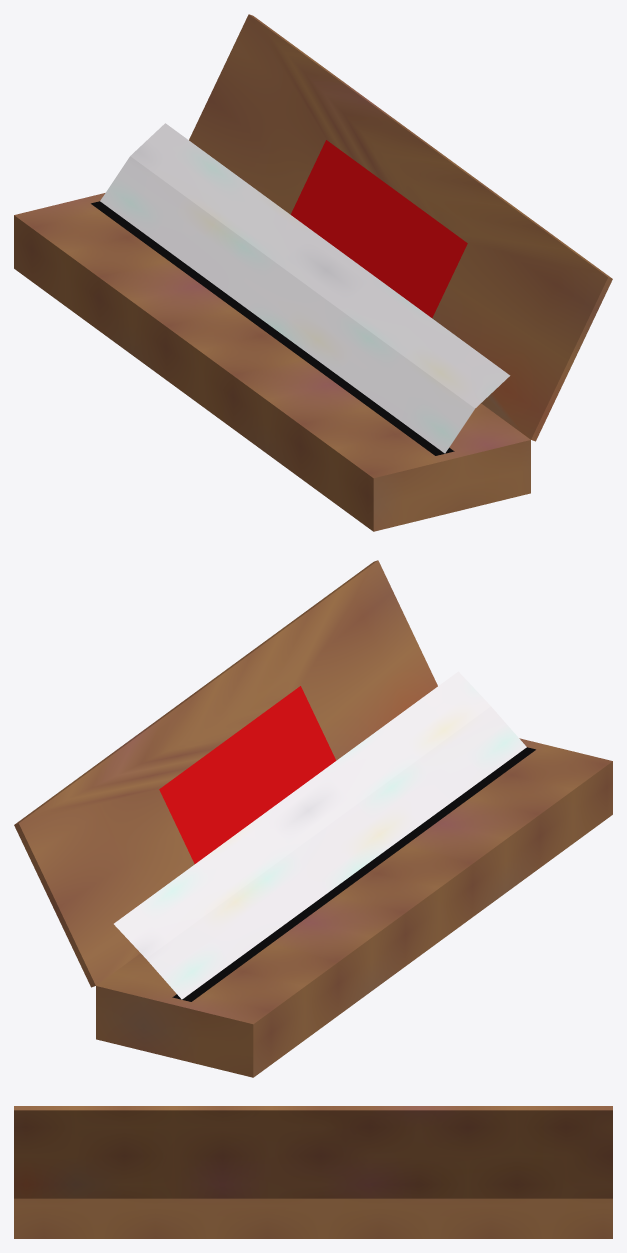
The picture shows the model from 3 angles, top to bottom: view 1: azimuth 30°, elevation 25°; view 2: azimuth 150°, elevation 25°; view 3: azimuth 270°, elevation 25°; orthographic projection. The views are drawn at different scales.
Parts seen in each view (by area): view 1: SmokingAccesories00; view 2: SmokingAccesories00; view 3: SmokingAccesories00.
Part boxes in pixels (left/top/right/bottom): SmokingAccesories00: left=14, top=14, right=612, bottom=531; SmokingAccesories00: left=14, top=560, right=612, bottom=1077; SmokingAccesories00: left=14, top=1106, right=612, bottom=1238.
Size of what is drawn, in the model's own units: 0.0731 by 0.0575 by 0.1901.
1 material, 1 textured.
